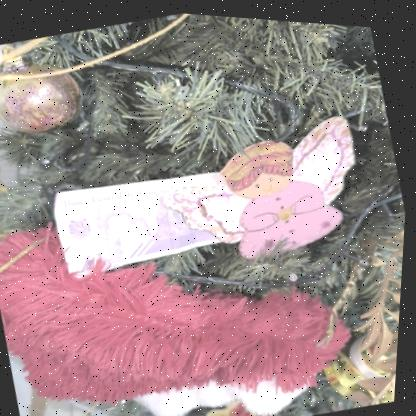one_hundred-back-vef: (49, 150, 247, 290)
